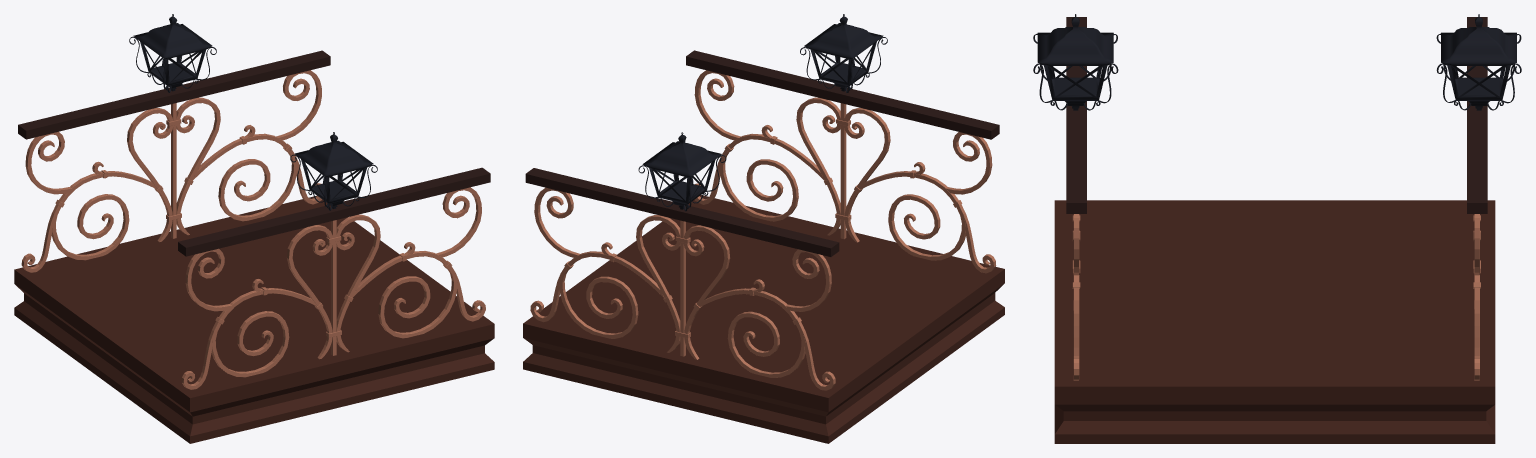
The model's file is Elevator_Hotel.fbx.
The picture shows the model from 3 angles, left to right: view 1: azimuth 30°, elevation 25°; view 2: azimuth 150°, elevation 25°; view 3: azimuth 270°, elevation 25°; orthographic projection. The views are drawn at different scales.
Visible parts, largest first — view 1: Cube; view 2: Cube; view 3: Cube.
Boxes of the visible parts, x1=… form: Cube: x1=14, y1=14, x2=494, y2=443; Cube: x1=523, y1=14, x2=1004, y2=443; Cube: x1=1033, y1=14, x2=1521, y2=443.
Bounding box in the file's own units: 200 × 169 × 222.
